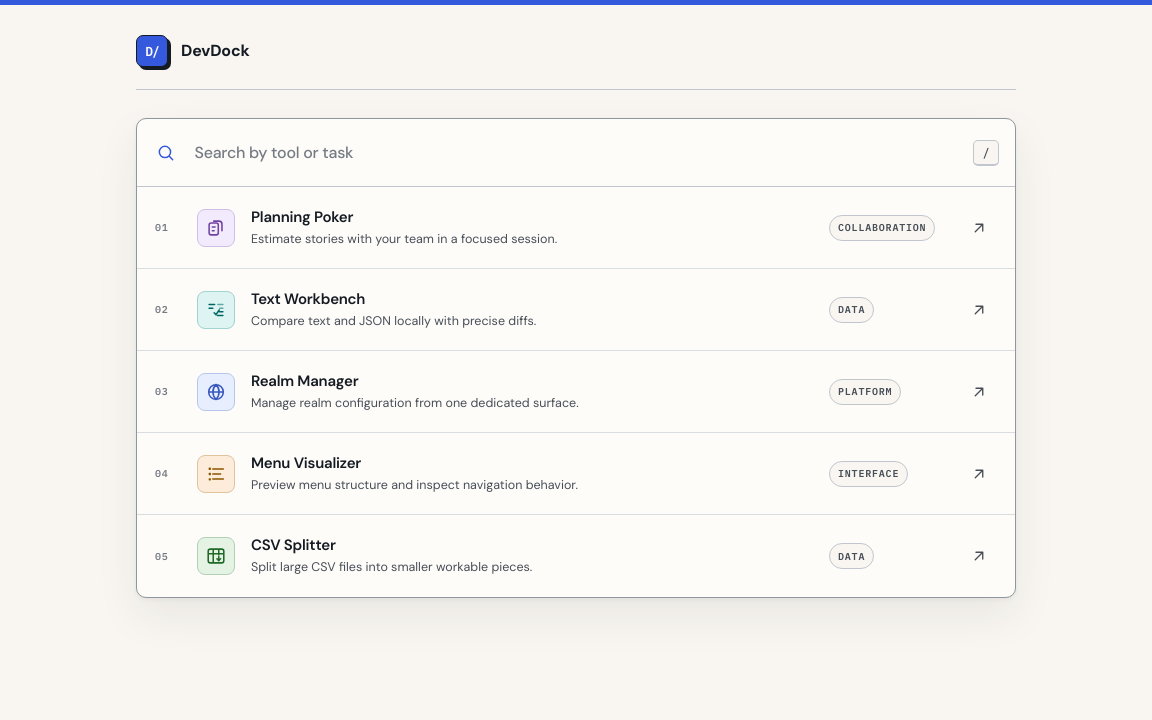
Test: DevDock › shows a helpful empty state when no tools match
Type "not-a-tool" into the search field named "search tools".
click(605, 152); type("not-a-tool")  # box top-left (194, 119), bottom-right (1015, 186)
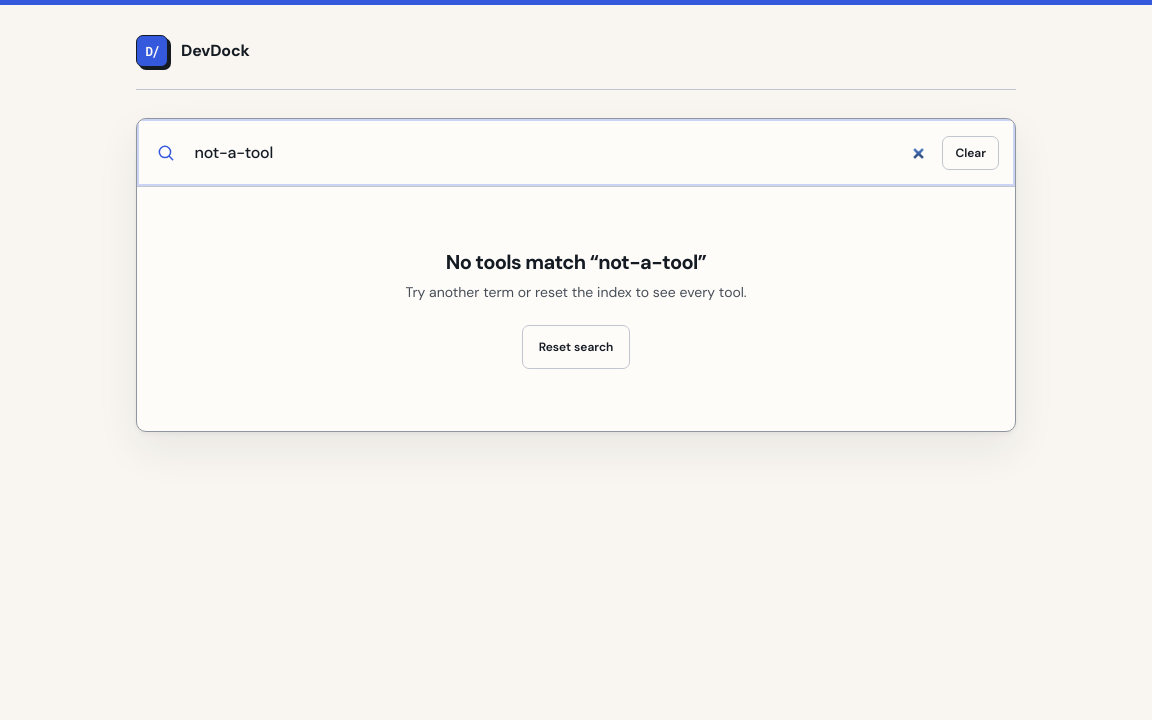
Check: the heading "No tools match “not-a-tool”" is shown, box top-left (446, 249), bottom-right (598, 275)
